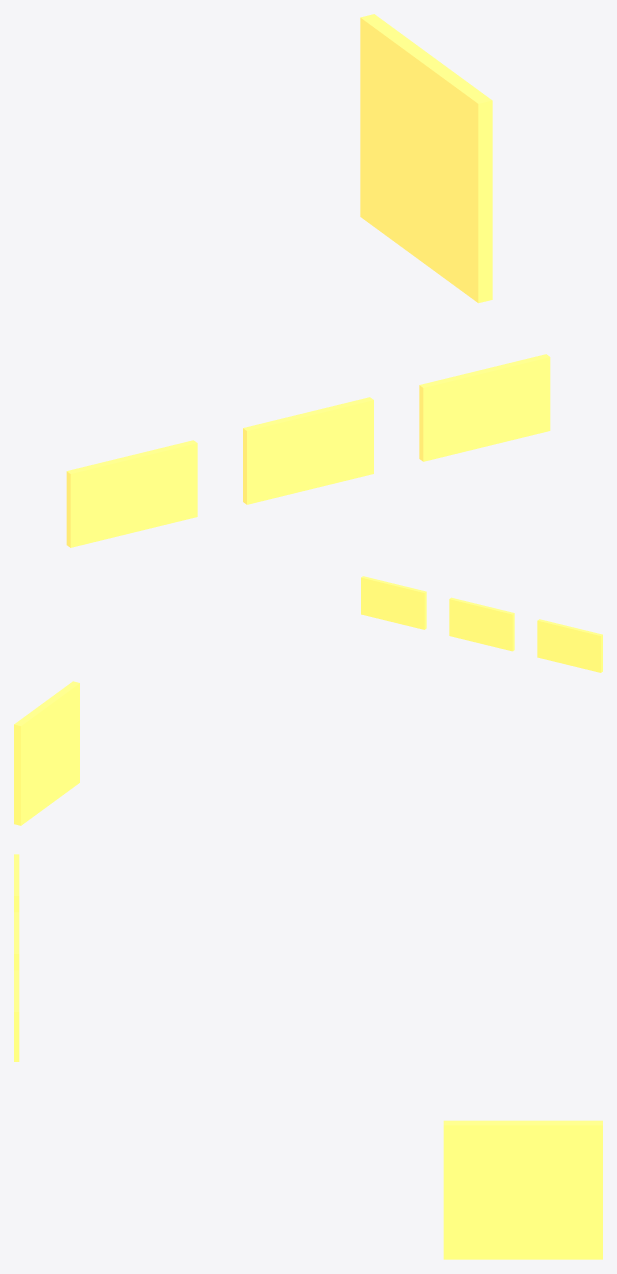
The model's file is Garage_Glow.glb.
The picture shows the model from 3 angles, top to bottom: view 1: azimuth 30°, elevation 25°; view 2: azimuth 150°, elevation 25°; view 3: azimuth 270°, elevation 25°; orthographic projection. The views are drawn at different scales.
Parts seen in each view (by area): view 1: Garage_Glow; view 2: Garage_Glow; view 3: Garage_Glow.
Boxes of the visible parts, x1,y1,x2,y2 form: Garage_Glow: (66, 14, 550, 547); Garage_Glow: (14, 576, 602, 825); Garage_Glow: (14, 854, 602, 1259).
Size of the model in its own units: 10.5 by 3.25 by 10.73.
